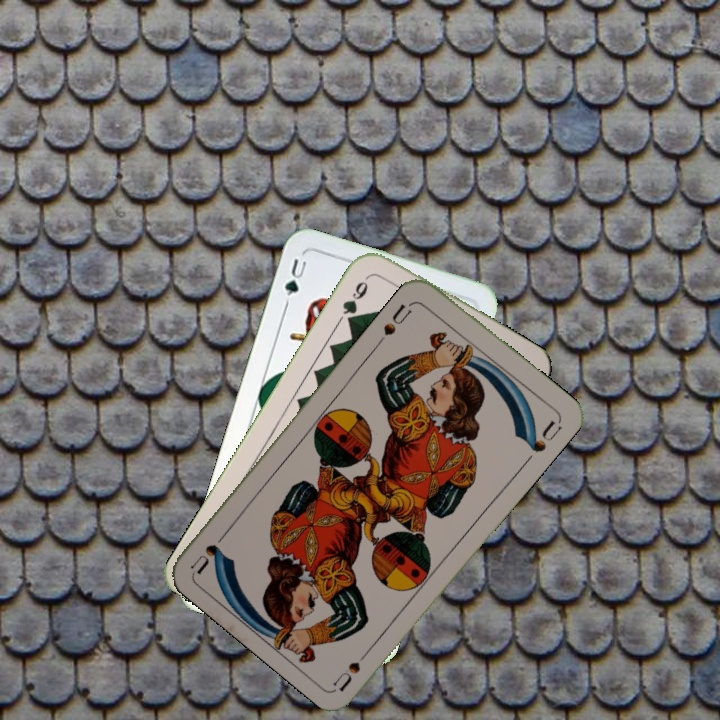G9: (338, 277, 371, 328)
GU: (280, 254, 309, 299)
SU: (329, 641, 377, 693), (379, 297, 418, 338)
